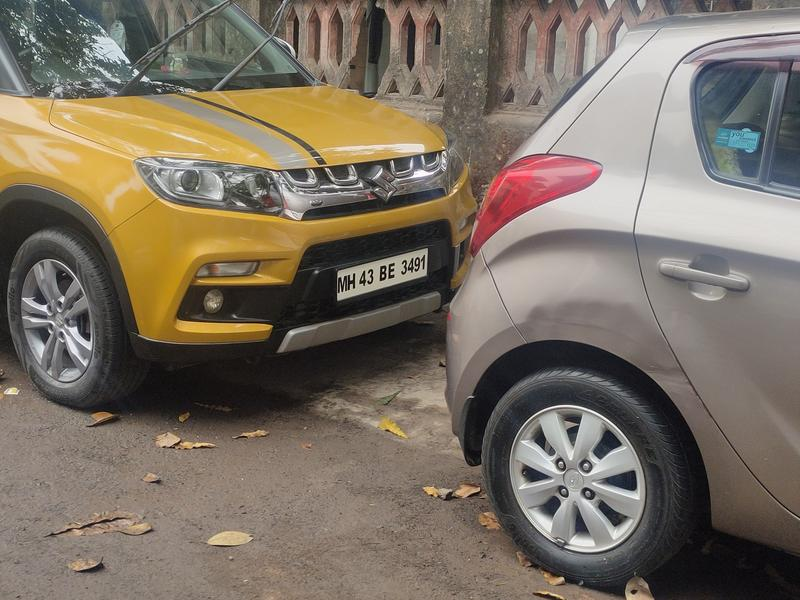license_plate: (329, 240, 433, 313)
